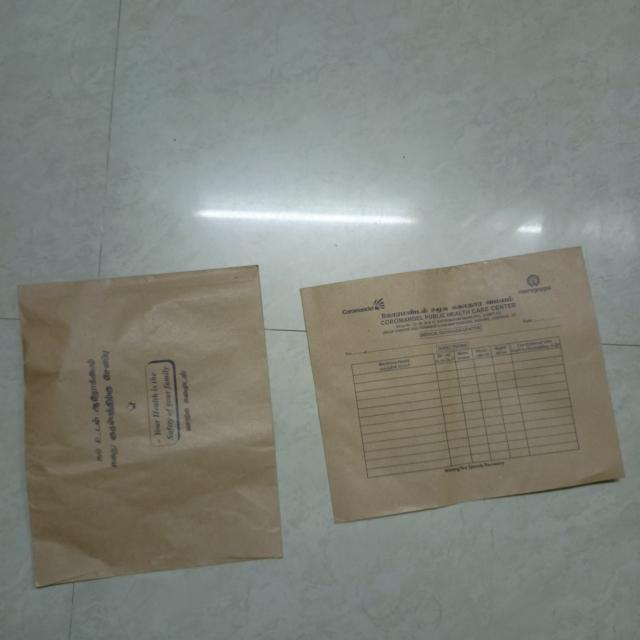box: (301, 242, 631, 528), (19, 256, 289, 588)
